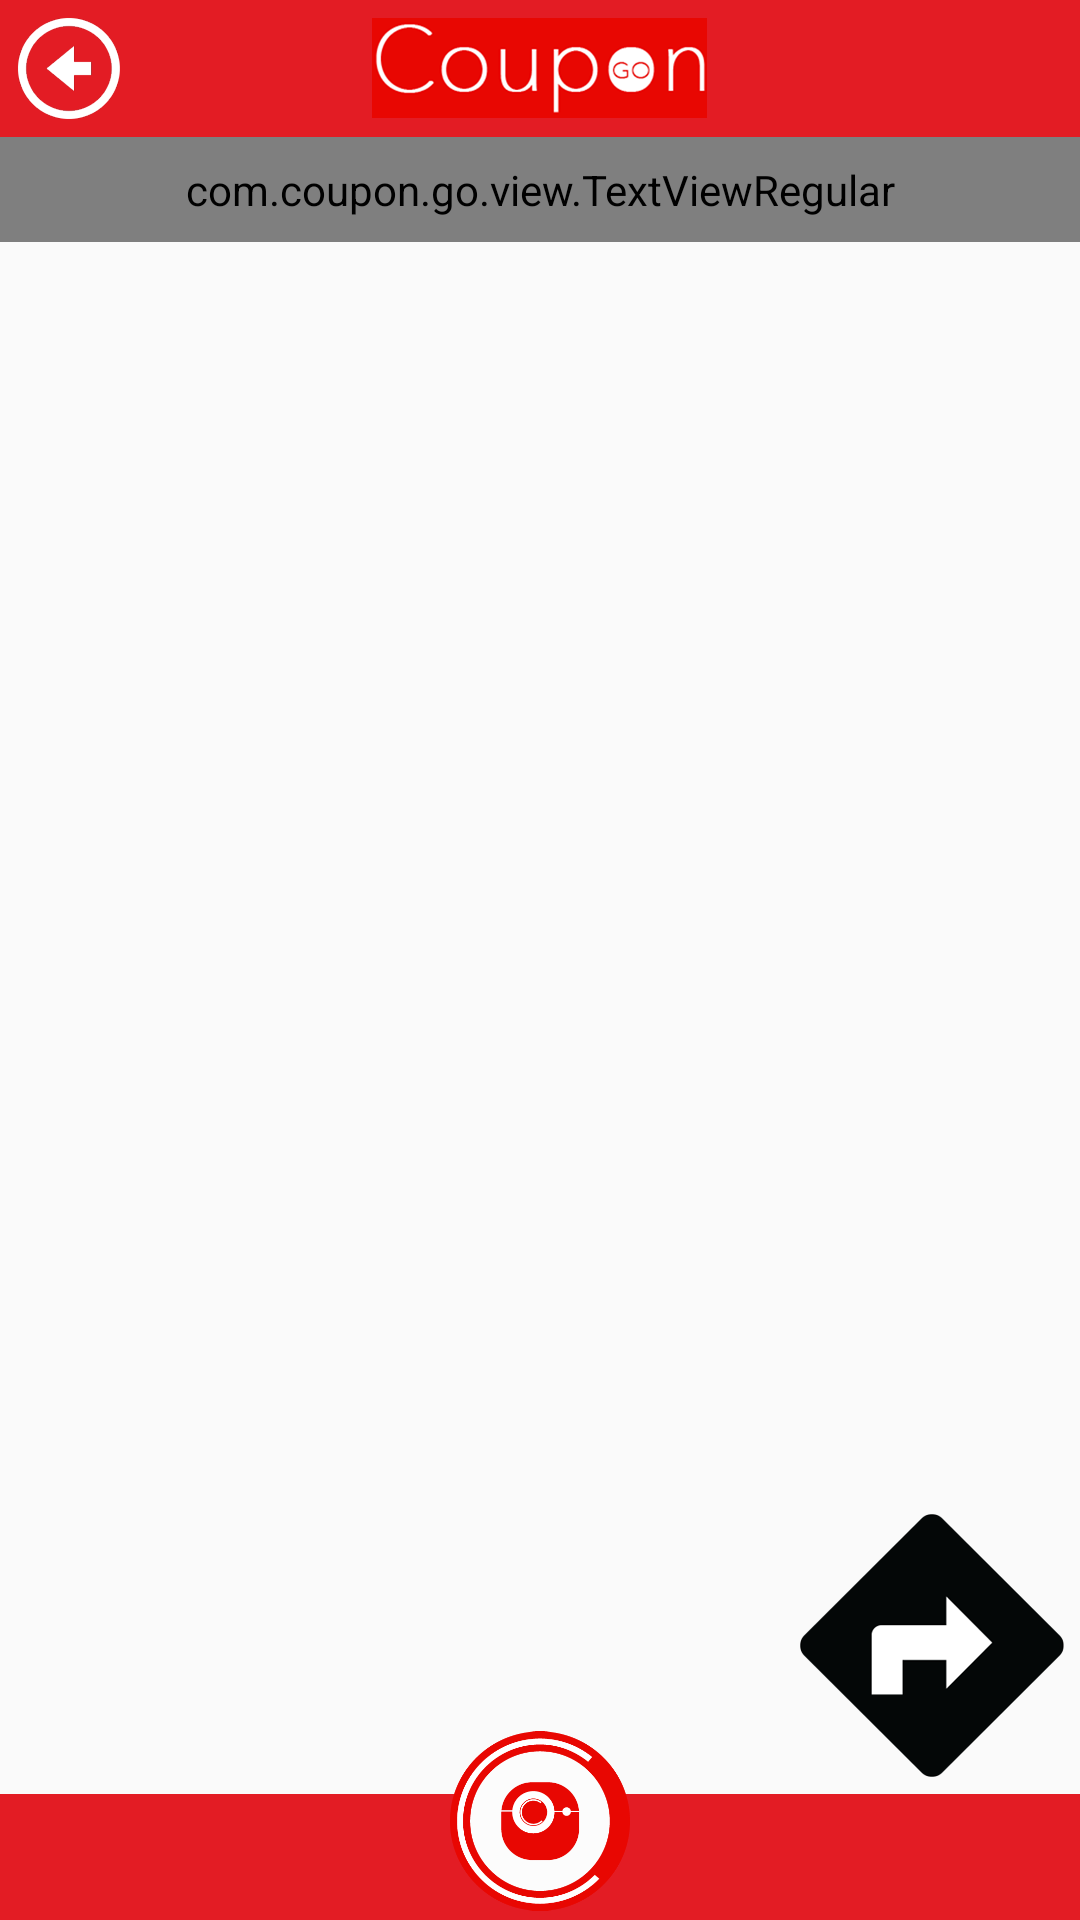

Icon click points for this 1080*1920 phone screenshot, format [x,y]:
back: [69,68]
camera round: [540,1821]
